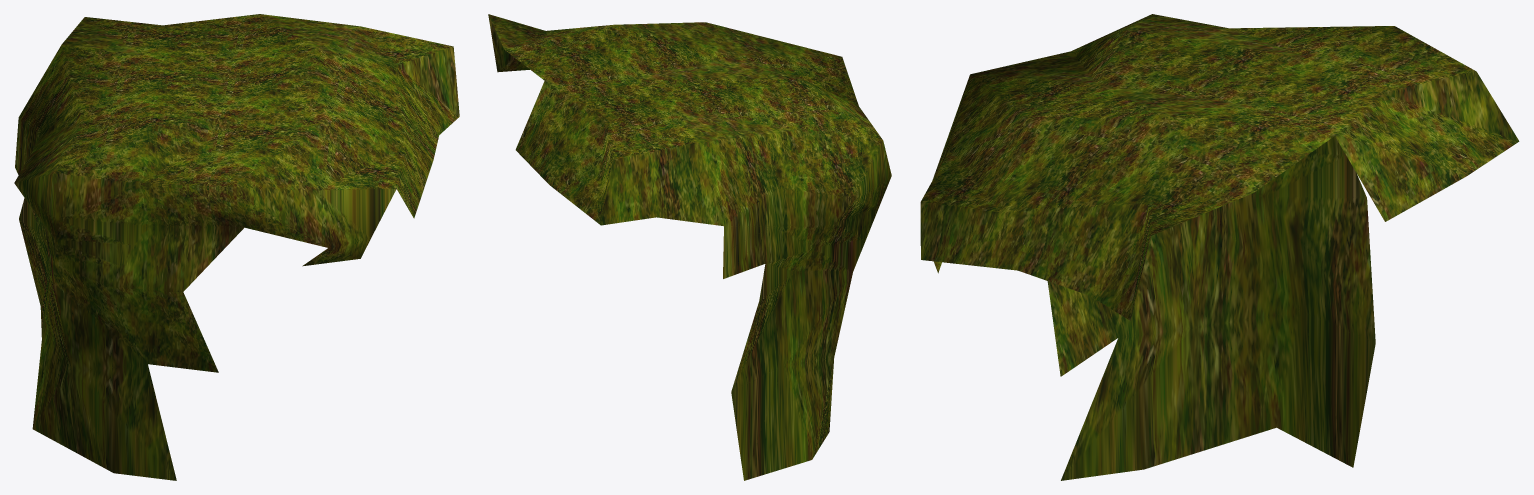
File: TROLLHOLE02_RM_PSURF44.fbx
The picture shows the model from 3 angles, left to right: view 1: azimuth 30°, elevation 25°; view 2: azimuth 150°, elevation 25°; view 3: azimuth 270°, elevation 25°; orthographic projection. The views are drawn at different scales.
Parts seen in each view (by area): view 1: TROLLHOLE02_RM_PSURF44; view 2: TROLLHOLE02_RM_PSURF44; view 3: TROLLHOLE02_RM_PSURF44.
Boxes of the visible parts, box(x1,y1,x2,y2) form: TROLLHOLE02_RM_PSURF44: box(14, 14, 459, 480); TROLLHOLE02_RM_PSURF44: box(488, 14, 891, 480); TROLLHOLE02_RM_PSURF44: box(920, 14, 1519, 480).
Size of the model in its own units: 76883 by 66405 by 73304.
1 material, 1 textured.
